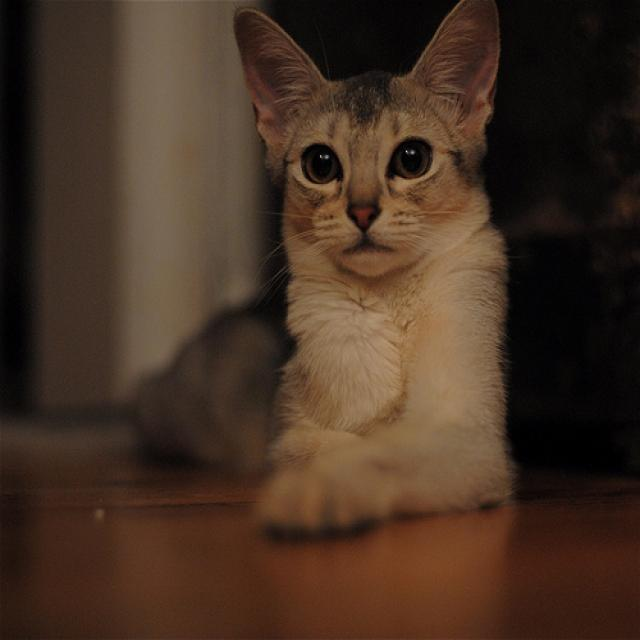Abyssinian: (233, 8, 504, 276)
